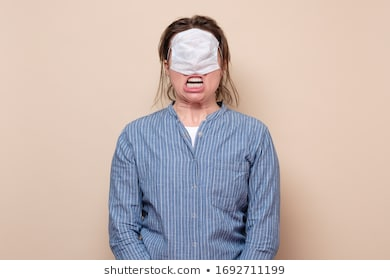mask_weared_incorrect: (171, 36, 219, 99)
